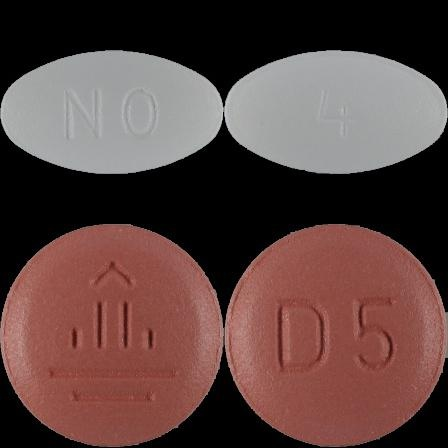55154-0328: (0, 0, 224, 224)
